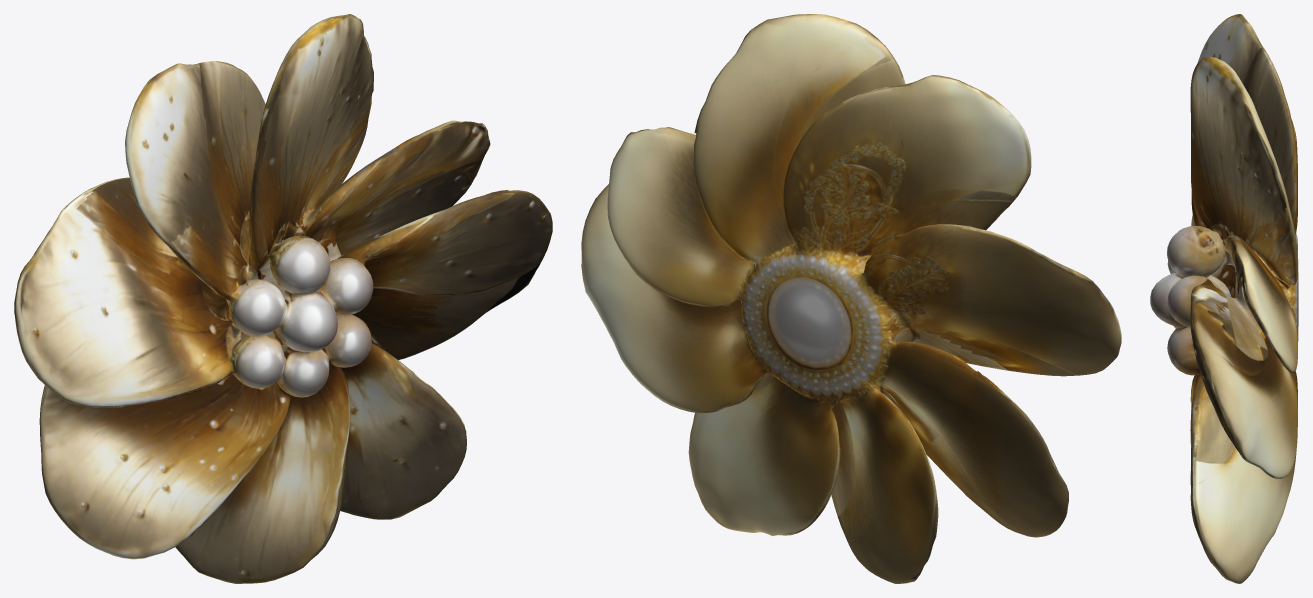
The model's file is nosepin-flower.glb.
3 views of the same model, side by side, from view 1: azimuth 30°, elevation 25°; view 2: azimuth 150°, elevation 25°; view 3: azimuth 270°, elevation 25° (orthographic). The views are drawn at different scales.
Visible parts, largest first — view 1: Mesh_0; view 2: Mesh_0; view 3: Mesh_0.
Part boxes in pixels (bbox=[...]): Mesh_0: bbox=[14, 14, 552, 583]; Mesh_0: bbox=[581, 14, 1121, 583]; Mesh_0: bbox=[1150, 14, 1298, 583].
Bounding box in the file's own units: 1.98 × 1.94 × 0.5204.
1 material, 1 textured.
